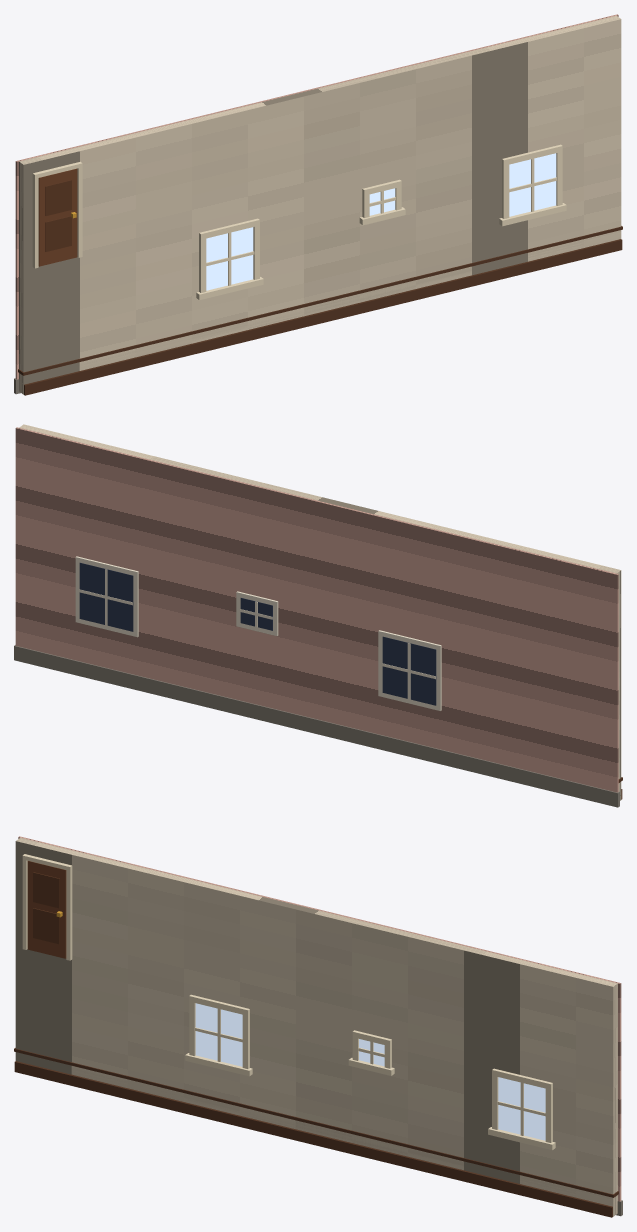
Rendered from back.glb.
3 renders of one model, top to bottom at view 1: azimuth 30°, elevation 25°; view 2: azimuth 150°, elevation 25°; view 3: azimuth 330°, elevation 25°, orthographic.
Visible parts, largest first — view 1: Box1, Box2, Box42, Box43, Box24, Box13, slab, Box3, slab_panel, slab_panel2, Box39, Box40 (+2 smaller); view 2: Box3, Box4, Box1, Box17, Box6, Box5, Box16, Box27, Box28; view 3: Box1, Box2, Box42, Box43, Box13, Box24, slab, Box3, slab_panel2, slab_panel, Box40, Box39 (+2 smaller).
Boxes of the visible parts, x1,y1,x2,y2 form: Box1: (19,15,621,394); Box2: (24,239,622,395); Box42: (19,230,621,394); Box43: (18,226,622,375); Box24: (206,227,253,290); Box13: (509,153,556,216); slab: (38,168,77,266); Box3: (15,14,618,379); slab_panel: (45,216,71,251); slab_panel2: (45,180,71,215); Box39: (32,172,38,268); Box40: (77,161,82,257); Box3: (15,427,618,792); Box4: (14,645,619,807); Box1: (19,424,621,800); Box17: (382,636,436,705); Box6: (79,562,133,631); Box5: (75,556,138,637); Box16: (378,630,441,710); Box27: (236,591,278,635); Box28: (240,598,272,630); Box1: (15,837,617,1216); Box2: (14,1061,612,1217); Box42: (15,1052,617,1215); Box43: (14,1048,618,1197); Box13: (498,1077,545,1140); Box24: (195,1003,242,1066); slab: (27,861,66,958); Box3: (18,836,621,1201); slab_panel2: (33,872,59,908); slab_panel: (33,908,59,944); Box40: (66,864,72,960); Box39: (22,854,27,949).
Bounding box in the file's own units: 11.27 × 4.14 × 0.373.
11 materials, 2 textured.
